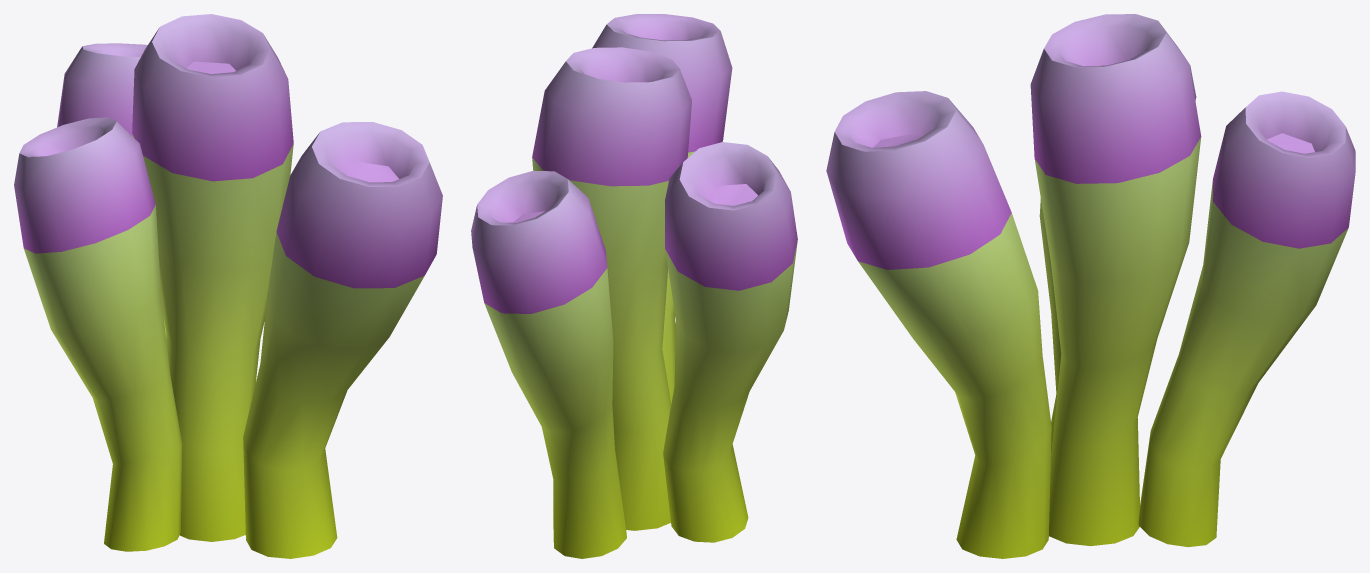
The model's file is coral_pink.glb.
The picture shows the model from 3 angles, left to right: view 1: azimuth 30°, elevation 25°; view 2: azimuth 150°, elevation 25°; view 3: azimuth 270°, elevation 25°; orthographic projection. The views are drawn at different scales.
Visible parts, largest first — view 1: coral_pink; view 2: coral_pink; view 3: coral_pink.
Boxes of the visible parts, x1=… form: coral_pink: x1=14, y1=14, x2=442, y2=558; coral_pink: x1=471, y1=14, x2=797, y2=558; coral_pink: x1=826, y1=14, x2=1355, y2=558.
Bounding box in the file's own units: 0.437 × 0.6518 × 0.6235.
1 material, 1 textured.
